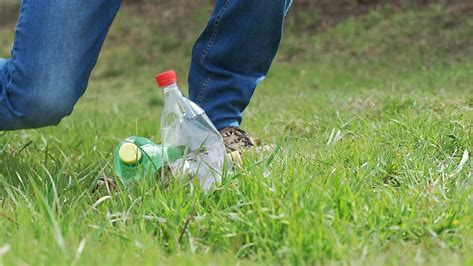garbage: (102, 64, 240, 204)
